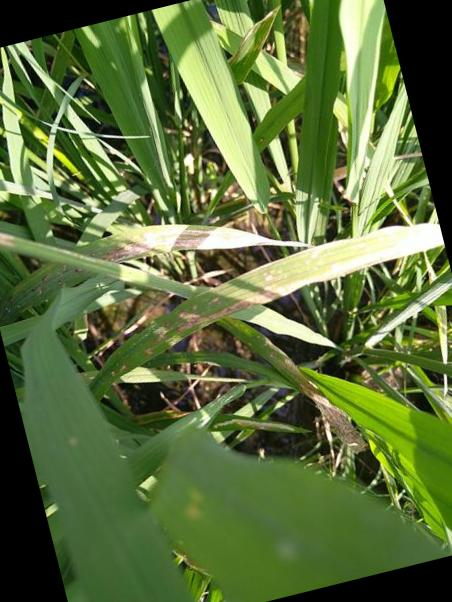Leaf Streak: (94, 224, 445, 397), (217, 318, 369, 454), (86, 224, 314, 263), (0, 266, 96, 325), (228, 6, 282, 84)
